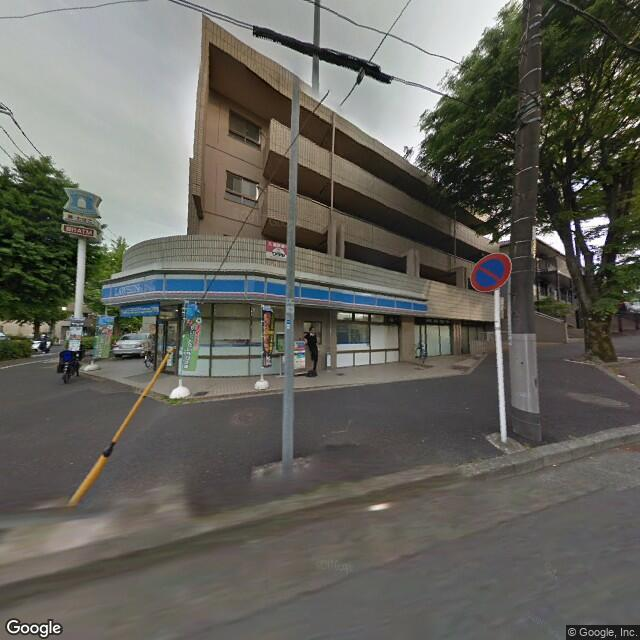lawson: (99, 264, 428, 317), (63, 181, 104, 221)
